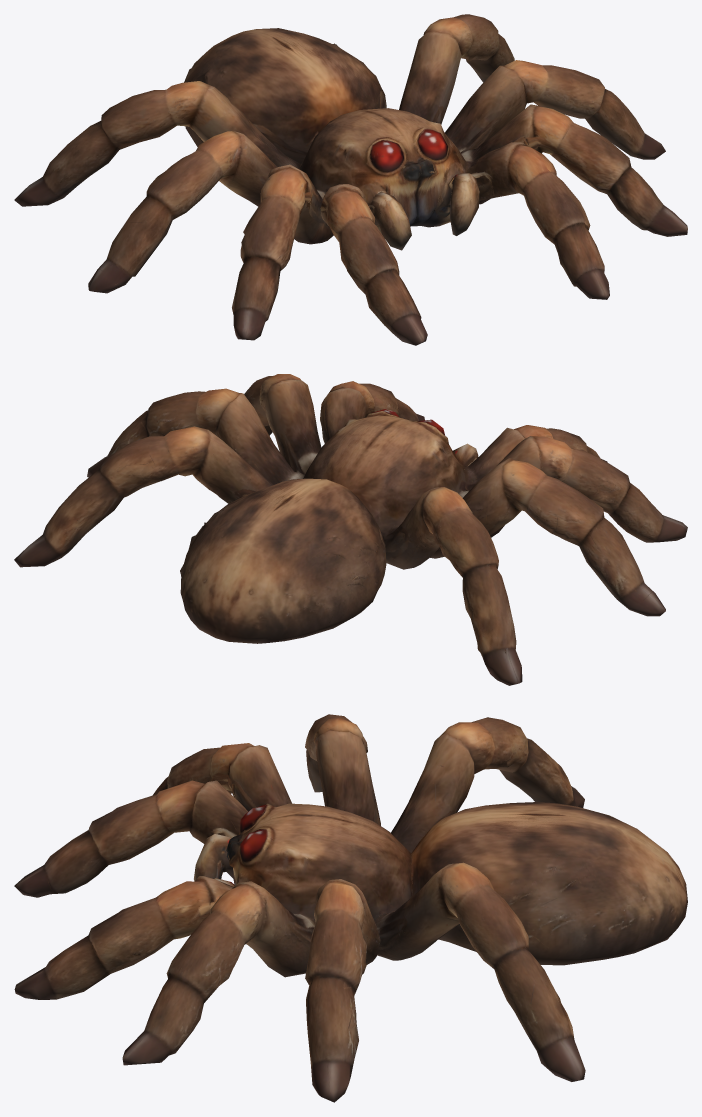
The model's file is spiderupdated.glb.
3 renders of one model, top to bottom at view 1: azimuth 30°, elevation 25°; view 2: azimuth 150°, elevation 25°; view 3: azimuth 270°, elevation 25°, orthographic. The views are drawn at different scales.
Parts seen in each view (by area): view 1: Mesh1.0; view 2: Mesh1.0; view 3: Mesh1.0.
Boxes of the visible parts, x1,y1,x2,y2 form: Mesh1.0: (14,14,687,345); Mesh1.0: (14,374,687,685); Mesh1.0: (14,714,687,1102).
Bounding box in the file's own units: 2.01 × 0.4303 × 1.78.
1 material, 1 textured.
